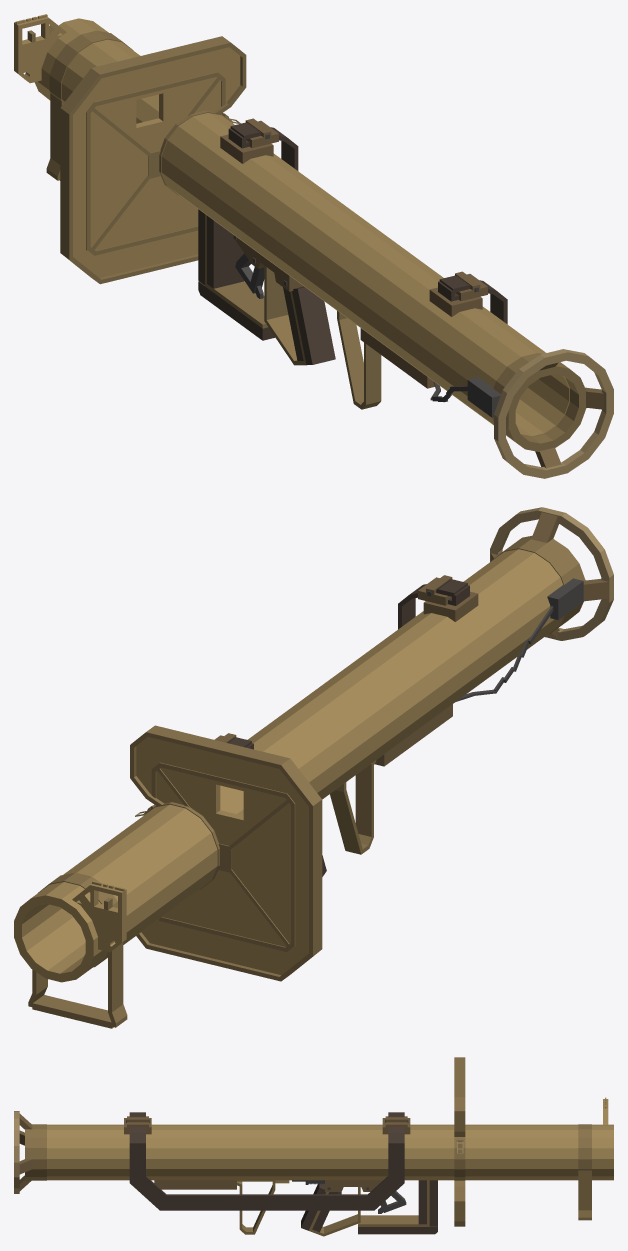
The model's file is stoneshovel.obj.
3 views of the same model, one above another, from view 1: azimuth 30°, elevation 25°; view 2: azimuth 150°, elevation 25°; view 3: azimuth 270°, elevation 25° (orthographic). The views are drawn at different scales.
Parts seen in each view (by area): view 1: hexadecagon; view 2: hexadecagon; view 3: hexadecagon.
Part boxes in pixels (<box>): hexadecagon: <box>14,14,613,478</box>; hexadecagon: <box>14,507,613,1028</box>; hexadecagon: <box>14,1057,613,1236</box>.
Size of the model in its own units: 0.3828 by 0.4556 by 1.7.
1 material, 1 textured.
